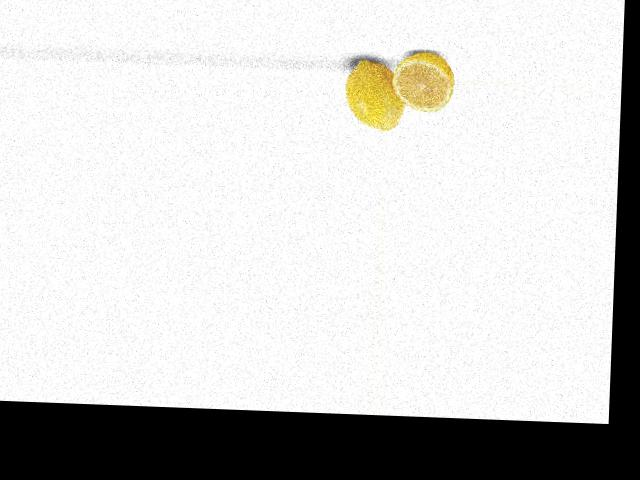lemon: (339, 55, 410, 133)
